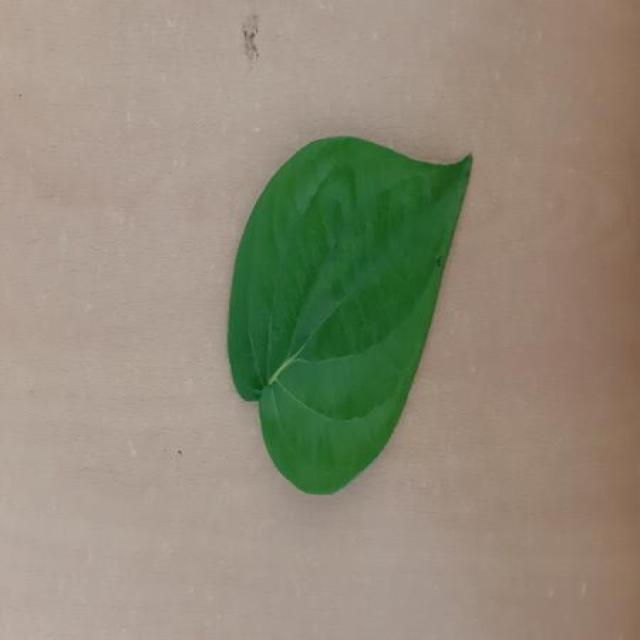betel: (228, 136, 472, 494)
